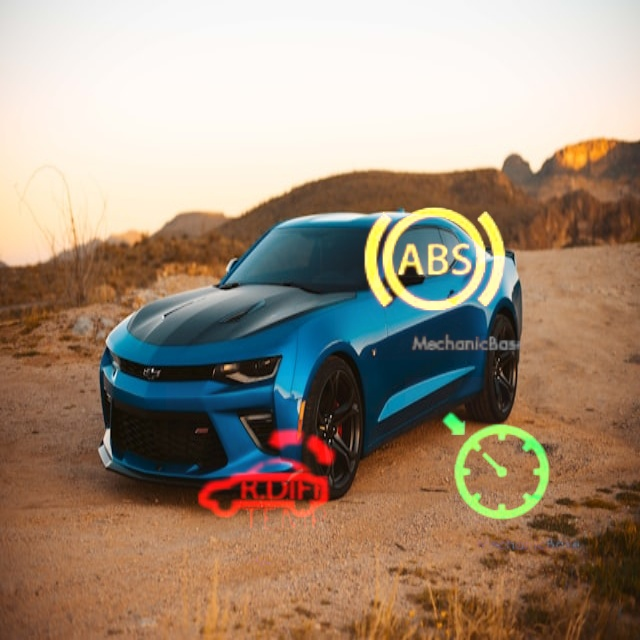symbol: (166, 376, 368, 578), (335, 162, 533, 360), (405, 377, 587, 559), (220, 440, 350, 570)
